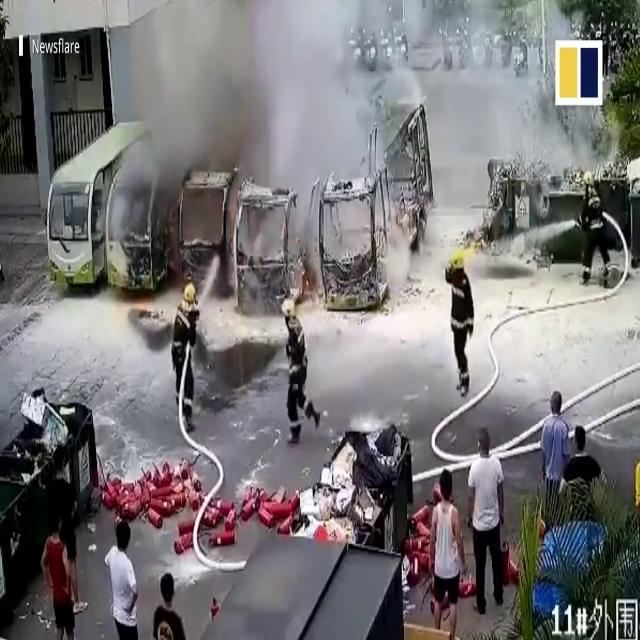Smoke: (115, 0, 350, 220)
